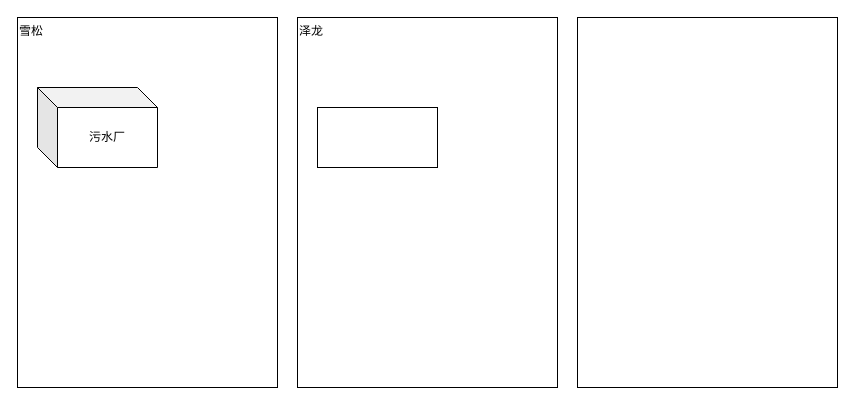
This 855x405 diagram has some shape labels left out. Here are the shapes that lost their labels. From the top down, the centre of each, then its label:
point (377, 137): 永济节能
point (707, 202): 厚薄
